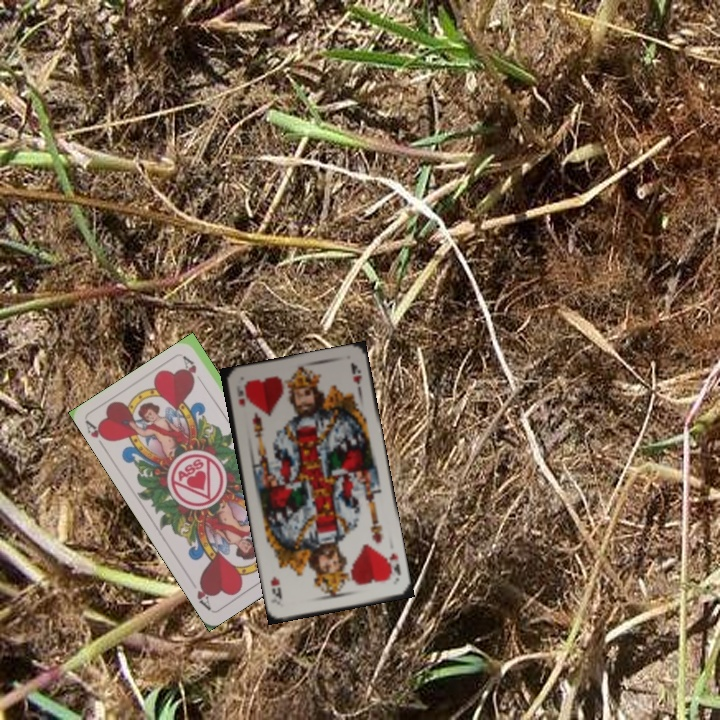HA: (82, 417, 113, 454)
HK: (382, 549, 404, 584), (232, 382, 248, 409)
